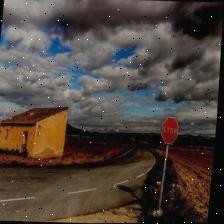Stop: (162, 116, 181, 144)
